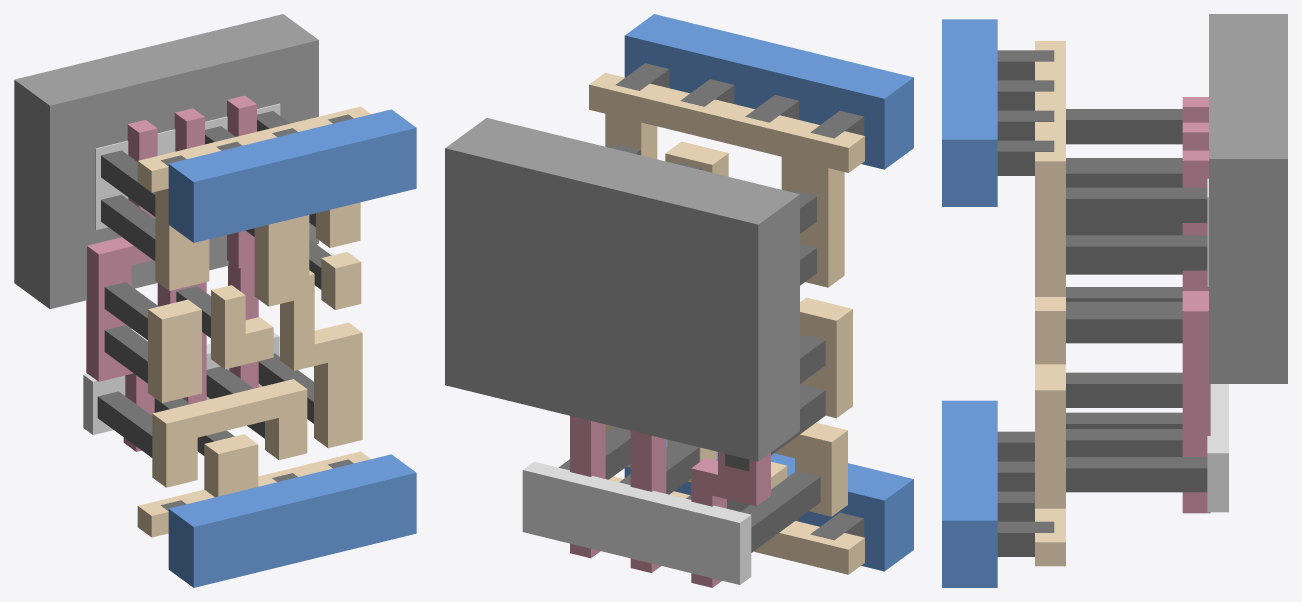
Rendered from sky130_fd_sc_hd__o21ai_0.gds.gltf.
3 renders of one model, left to right at view 1: azimuth 30°, elevation 25°; view 2: azimuth 150°, elevation 25°; view 3: azimuth 270°, elevation 25°, orthographic. The views are drawn at different scales.
Parts seen in each view (by area): view 1: sky130_fd_sc_hd__o21ai_0_li1, sky130_fd_sc_hd__o21ai_0_met1, sky130_fd_sc_hd__o21ai_0_nwell, sky130_fd_sc_hd__o21ai_0_licon, sky130_fd_sc_hd__o21ai_0_poly, sky130_fd_sc_hd__o21ai_0_diff, sky130_fd_sc_hd__o21ai_0_mcon; view 2: sky130_fd_sc_hd__o21ai_0_nwell, sky130_fd_sc_hd__o21ai_0_li1, sky130_fd_sc_hd__o21ai_0_met1, sky130_fd_sc_hd__o21ai_0_diff, sky130_fd_sc_hd__o21ai_0_licon, sky130_fd_sc_hd__o21ai_0_poly, sky130_fd_sc_hd__o21ai_0_mcon; view 3: sky130_fd_sc_hd__o21ai_0_licon, sky130_fd_sc_hd__o21ai_0_nwell, sky130_fd_sc_hd__o21ai_0_met1, sky130_fd_sc_hd__o21ai_0_li1, sky130_fd_sc_hd__o21ai_0_mcon, sky130_fd_sc_hd__o21ai_0_poly, sky130_fd_sc_hd__o21ai_0_diff.
Part boxes in pixels (x1=…): sky130_fd_sc_hd__o21ai_0_li1: x1=137, y1=106, x2=370, y2=537; sky130_fd_sc_hd__o21ai_0_met1: x1=168, y1=109, x2=416, y2=587; sky130_fd_sc_hd__o21ai_0_nwell: x1=14, y1=14, x2=318, y2=308; sky130_fd_sc_hd__o21ai_0_licon: x1=97, y1=111, x2=331, y2=457; sky130_fd_sc_hd__o21ai_0_poly: x1=86, y1=95, x2=258, y2=451; sky130_fd_sc_hd__o21ai_0_diff: x1=83, y1=103, x2=280, y2=434; sky130_fd_sc_hd__o21ai_0_mcon: x1=161, y1=114, x2=353, y2=510; sky130_fd_sc_hd__o21ai_0_nwell: x1=445, y1=118, x2=799, y2=461; sky130_fd_sc_hd__o21ai_0_li1: x1=589, y1=72, x2=864, y2=574; sky130_fd_sc_hd__o21ai_0_met1: x1=624, y1=14, x2=913, y2=571; sky130_fd_sc_hd__o21ai_0_diff: x1=522, y1=461, x2=751, y2=584; sky130_fd_sc_hd__o21ai_0_licon: x1=558, y1=144, x2=825, y2=552; sky130_fd_sc_hd__o21ai_0_poly: x1=570, y1=416, x2=770, y2=587; sky130_fd_sc_hd__o21ai_0_mcon: x1=616, y1=63, x2=864, y2=540; sky130_fd_sc_hd__o21ai_0_licon: x1=1066, y1=109, x2=1207, y2=492; sky130_fd_sc_hd__o21ai_0_nwell: x1=1209, y1=14, x2=1287, y2=383; sky130_fd_sc_hd__o21ai_0_met1: x1=942, y1=19, x2=997, y2=587; sky130_fd_sc_hd__o21ai_0_li1: x1=1035, y1=41, x2=1065, y2=566; sky130_fd_sc_hd__o21ai_0_mcon: x1=997, y1=50, x2=1054, y2=556; sky130_fd_sc_hd__o21ai_0_poly: x1=1182, y1=97, x2=1210, y2=513; sky130_fd_sc_hd__o21ai_0_diff: x1=1207, y1=178, x2=1228, y2=512.
Size of the model in its own units: 2.22 by 3.2 by 2.24.
